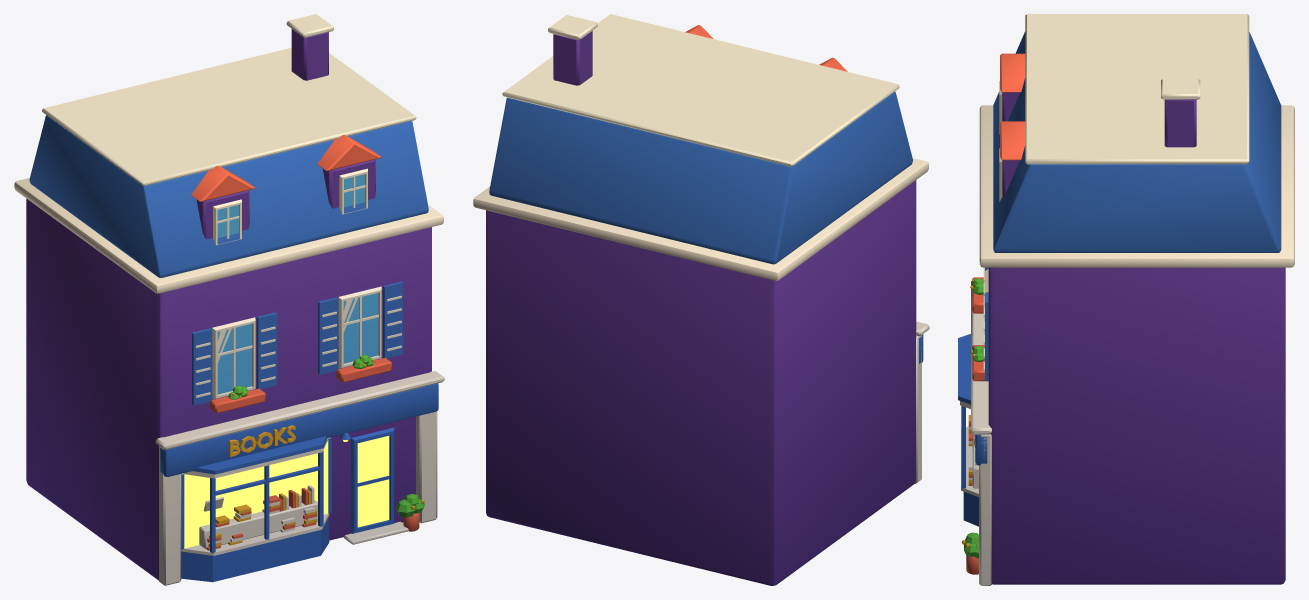
File: shop_books.glb
3 views of the same model, side by side, from view 1: azimuth 30°, elevation 25°; view 2: azimuth 150°, elevation 25°; view 3: azimuth 270°, elevation 25° (orthographic). The views are drawn at different scales.
Parts seen in each view (by area): view 1: shop_books; view 2: shop_books; view 3: shop_books.
Part boxes in pixels (<box>): shop_books: <box>14,14,444,585</box>; shop_books: <box>473,14,929,585</box>; shop_books: <box>958,14,1294,585</box>.
Size of the model in its own units: 8 by 11.62 by 7.37.
